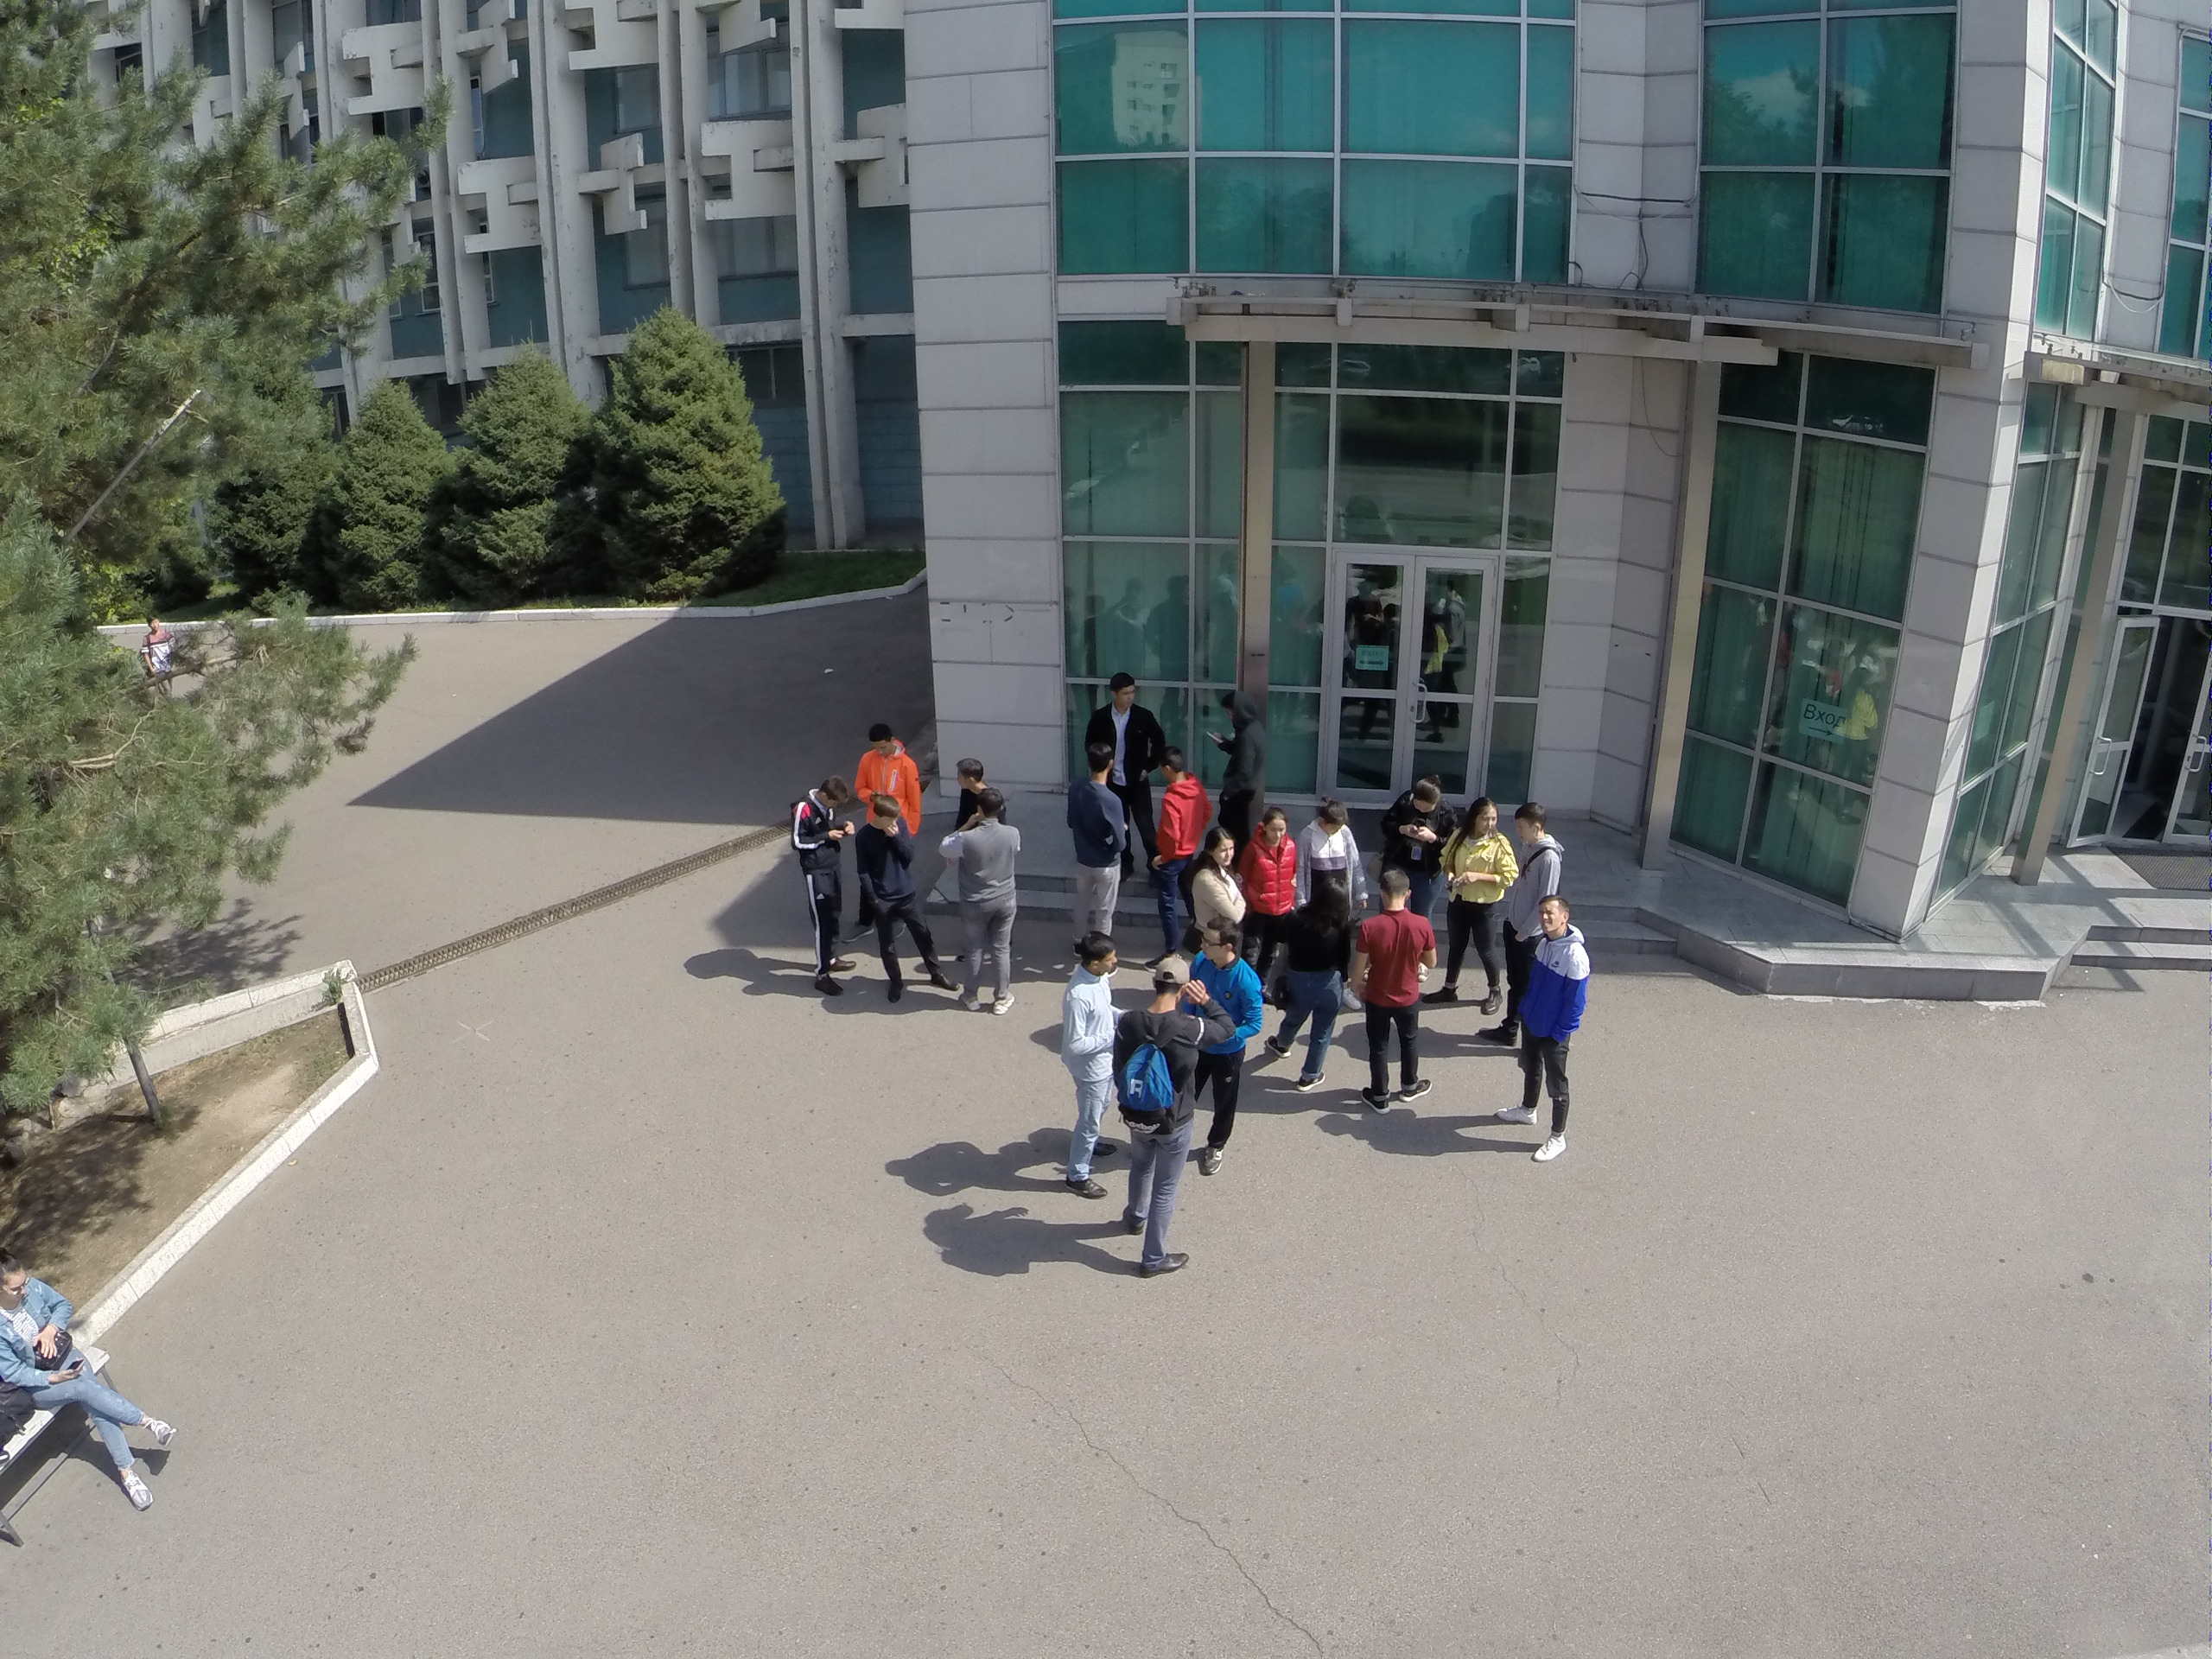person: (1, 1268, 170, 1528), (1492, 889, 1582, 1162), (1116, 953, 1189, 1268), (850, 793, 944, 1002), (1185, 910, 1261, 1172), (1356, 871, 1429, 1115), (1047, 937, 1114, 1205), (1272, 856, 1349, 1086), (1435, 794, 1509, 1010), (961, 794, 1025, 1020), (795, 773, 851, 1006), (1103, 664, 1159, 880), (1070, 736, 1124, 927), (1157, 737, 1200, 945), (1370, 772, 1456, 870), (1209, 680, 1266, 824), (1250, 804, 1295, 954), (1509, 795, 1558, 918), (856, 716, 914, 804), (1196, 817, 1243, 925), (1295, 799, 1355, 886)
